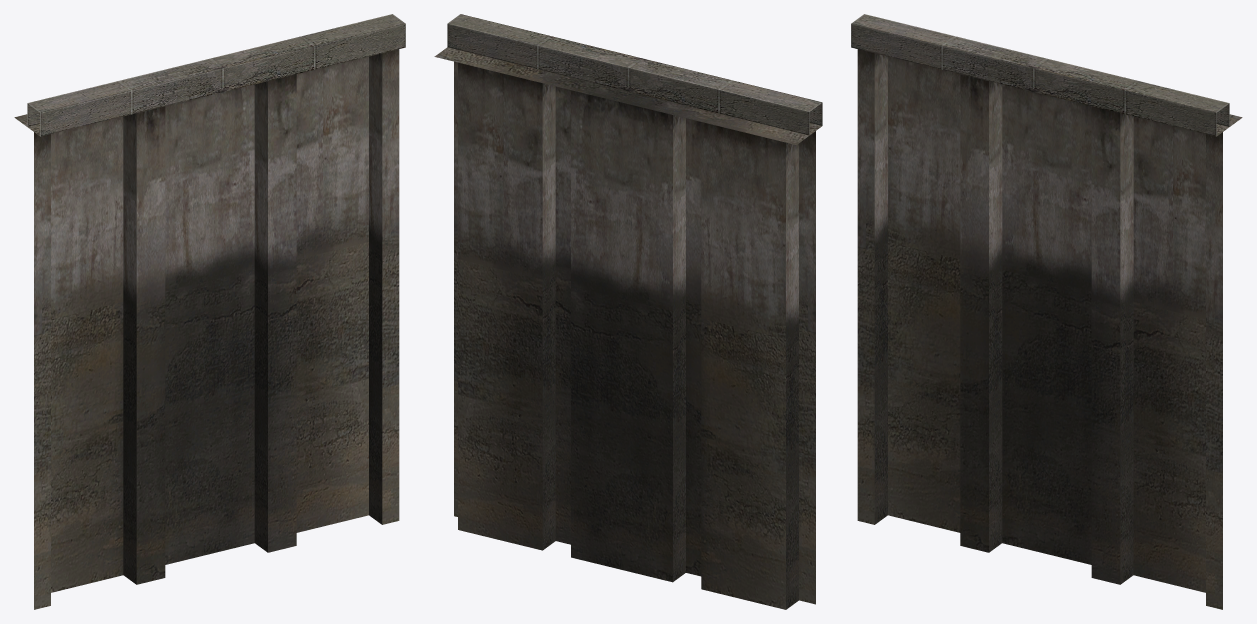
Rendered from Dockslb2.glb.
3 renders of one model, left to right at view 1: azimuth 30°, elevation 25°; view 2: azimuth 150°, elevation 25°; view 3: azimuth 330°, elevation 25°, orthographic.
Parts seen in each view (by area): view 1: _Dockslb2; view 2: _Dockslb2; view 3: _Dockslb2.
Part boxes in pixels (x1=…): _Dockslb2: x1=14, y1=14, x2=405, y2=609; _Dockslb2: x1=434, y1=14, x2=822, y2=609; _Dockslb2: x1=851, y1=14, x2=1242, y2=609.
Bounding box in the file's own units: 16 × 21 × 2.
Materials: 1 (1 with a texture image).
